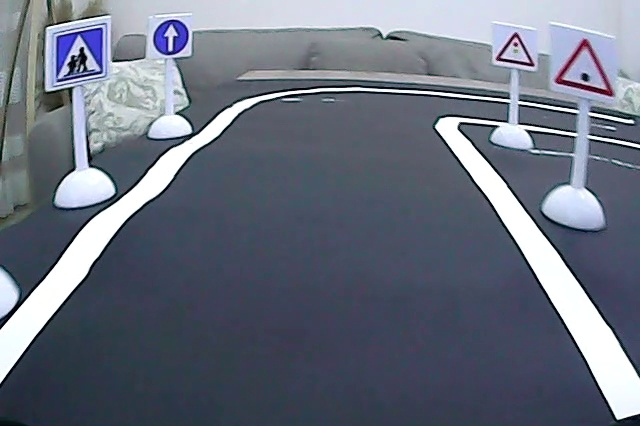green light: (550, 33, 617, 103)
red light: (494, 26, 538, 70)
school crossing: (49, 24, 108, 84)
